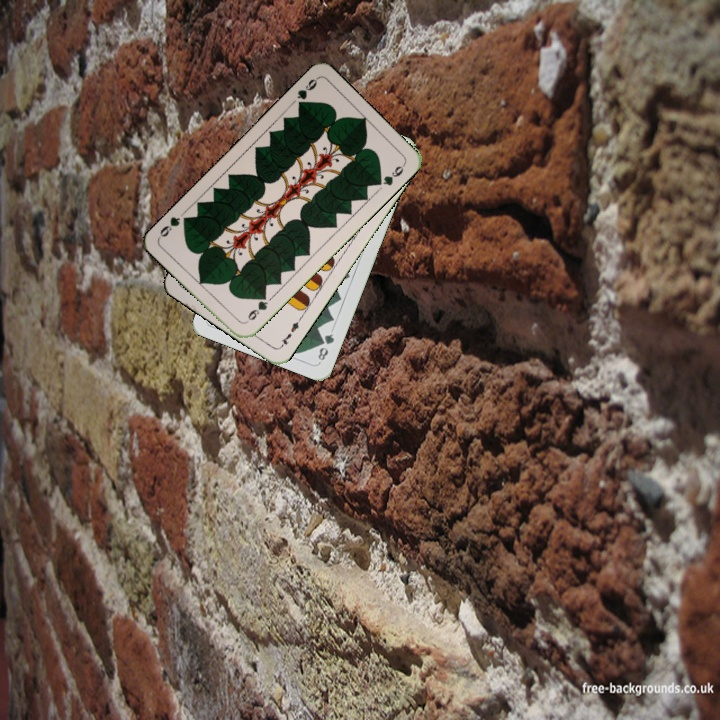E7: (276, 314, 304, 350)
G8: (314, 329, 337, 365)
G9: (293, 74, 320, 111), (243, 290, 270, 323)
